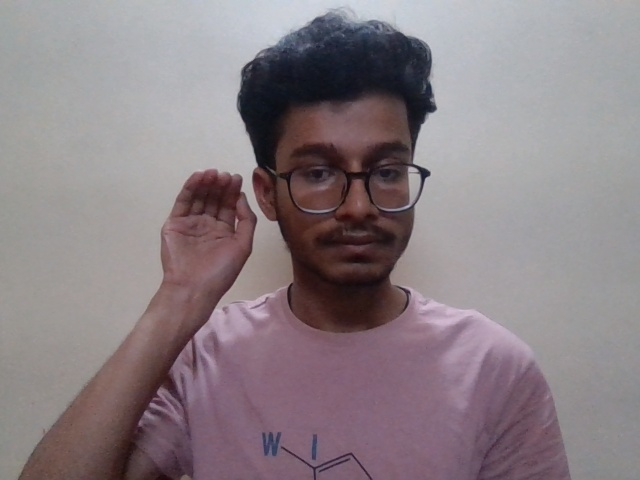sound: (148, 153, 277, 326)
